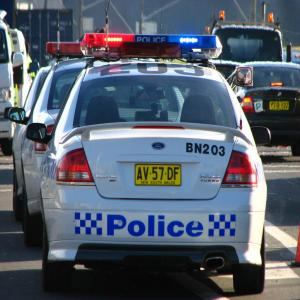Vehicle-registration-plate: (135, 166, 184, 188), (269, 101, 292, 110)
